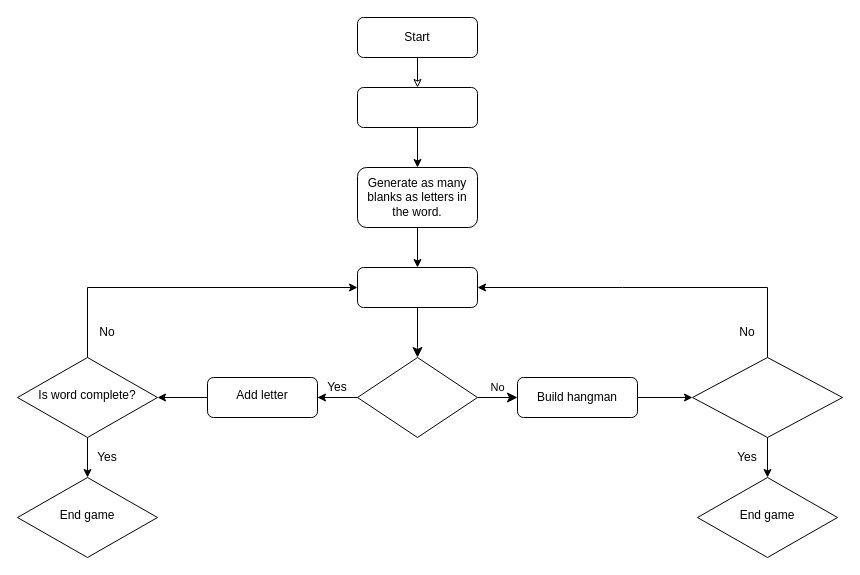
This 860x575 diagram has some shape labels left out. Here are the shapes that lost their labels. From the top down, the centre of each, then its label:
point 417,107: Generate Random Word
point 417,287: User guess letter
point 417,397: Is letter in word?
point 767,397: Is hangman complete?
